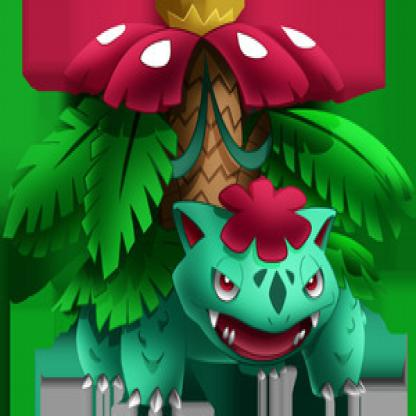Venusaur: (16, 1, 409, 415)
